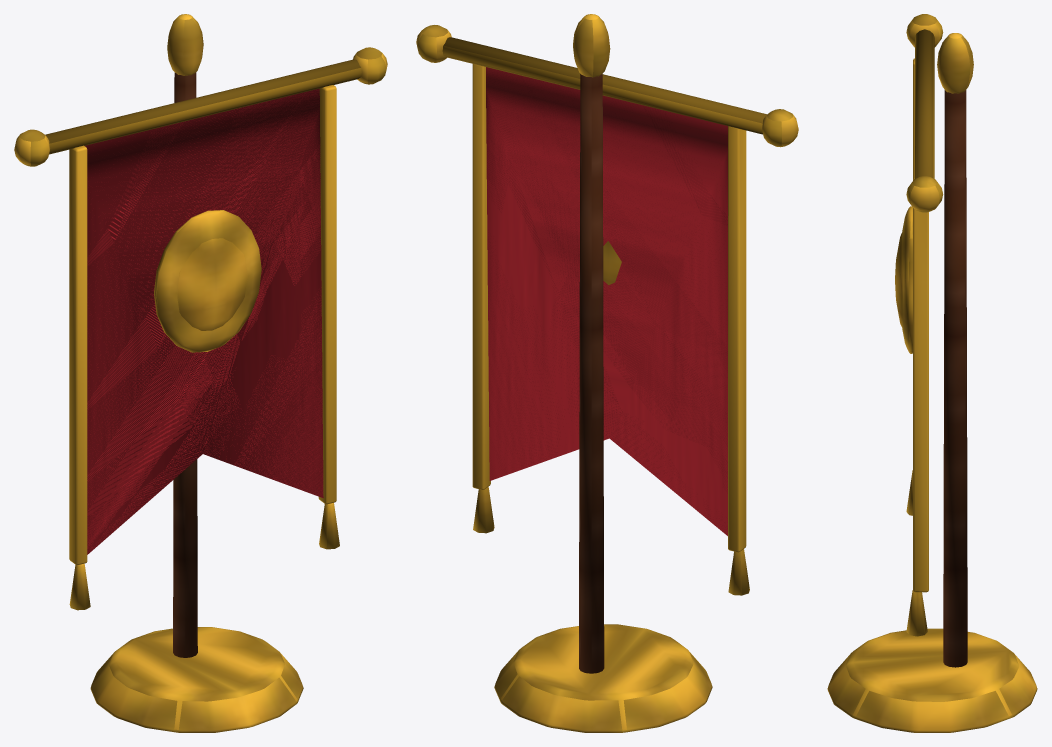
Rendered from h_prop_banner.glb.
3 views of the same model, side by side, from view 1: azimuth 30°, elevation 25°; view 2: azimuth 150°, elevation 25°; view 3: azimuth 270°, elevation 25° (orthographic). The views are drawn at different scales.
Visible parts, largest first — view 1: BnrCloth, BnrBase, BnrGoldEdge_-0.37, BnrCrestShield, BnrCrossbar, BnrGoldEdge_0.37, BnrPole, BnrCrestInner, BnrTopSpear, BnrFinial_-0.50, BnrFinial_0.50, BnrTassel_0.37 (+1 smaller); view 2: BnrCloth, BnrBase, BnrPole, BnrGoldEdge_-0.37, BnrGoldEdge_0.37, BnrCrossbar, BnrTopSpear, BnrFinial_-0.50, BnrFinial_0.50, BnrTassel_-0.37, BnrTassel_0.37; view 3: BnrBase, BnrPole, BnrGoldEdge_0.37, BnrCrossbar, BnrTopSpear, BnrCrestShield, BnrFinial_0.50, BnrTassel_0.37, BnrFinial_-0.50, BnrCrestInner.
Part boxes in pixels (<box>): BnrCloth: <box>85,88,323,554</box>; BnrBase: <box>90,627,303,732</box>; BnrGoldEdge_-0.37: <box>69,145,87,564</box>; BnrCrestShield: <box>154,210,261,352</box>; BnrCrossbar: <box>45,59,361,154</box>; BnrGoldEdge_0.37: <box>318,85,336,504</box>; BnrPole: <box>173,72,197,657</box>; BnrCrestInner: <box>176,238,247,330</box>; BnrTopSpear: <box>167,14,203,75</box>; BnrFinial_-0.50: <box>14,129,50,166</box>; BnrFinial_0.50: <box>353,47,387,84</box>; BnrTassel_0.37: <box>319,502,339,549</box>; BnrCloth: <box>486,67,727,535</box>; BnrBase: <box>494,624,712,732</box>; BnrPole: <box>579,74,604,673</box>; BnrGoldEdge_-0.37: <box>728,126,746,552</box>; BnrGoldEdge_0.37: <box>472,64,490,489</box>; BnrCrossbar: <box>442,37,766,134</box>; BnrTopSpear: <box>573,14,610,77</box>; BnrFinial_-0.50: <box>762,109,798,147</box>; BnrFinial_0.50: <box>416,25,451,62</box>; BnrTassel_-0.37: <box>728,549,749,595</box>; BnrTassel_0.37: <box>473,486,494,533</box>; BnrBase: <box>827,628,1037,732</box>; BnrPole: <box>943,90,967,667</box>; BnrGoldEdge_0.37: <box>913,178,928,592</box>; BnrCrossbar: <box>915,29,934,178</box>; BnrTopSpear: <box>937,33,973,93</box>; BnrCrestShield: <box>902,206,912,353</box>; BnrFinial_0.50: <box>906,176,943,212</box>; BnrTassel_0.37: <box>906,590,927,636</box>; BnrFinial_-0.50: <box>906,14,943,47</box>; BnrCrestInner: <box>895,232,902,327</box>.
Bounding box in the file's own units: 1.09 × 1.89 × 0.5478.
Materials: 4 (4 with a texture image).
